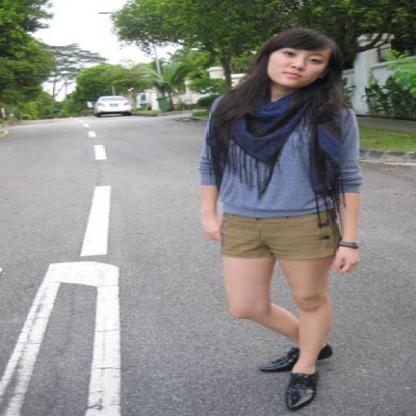shirt: (200, 110, 368, 223)
shoe: (262, 344, 332, 412)
shorts: (219, 209, 357, 261)
